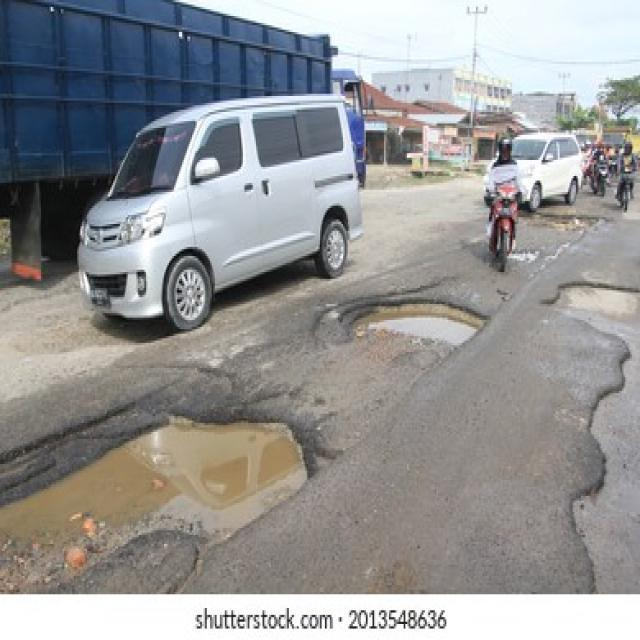Pothole: (0, 413, 309, 590), (340, 297, 490, 350)
